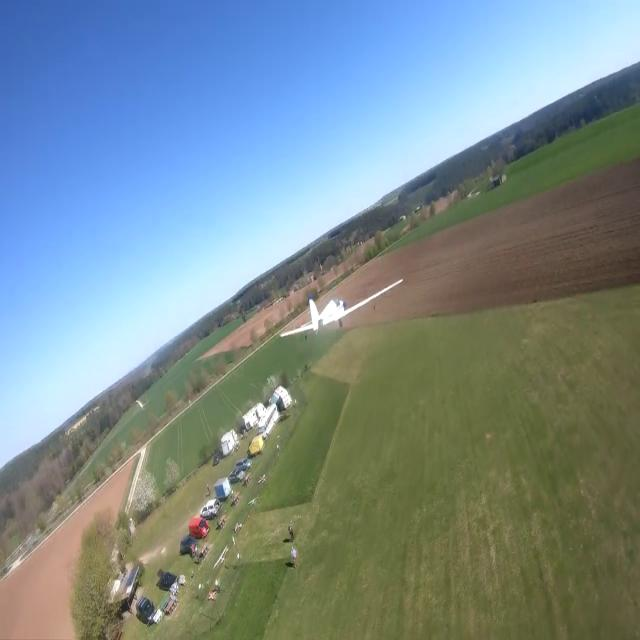iha: (275, 277, 404, 339)
